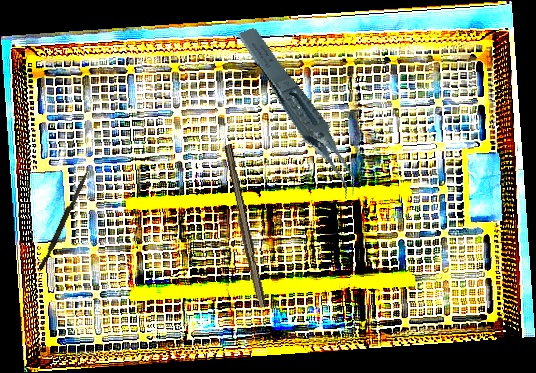Pusher: (38, 165, 91, 272)
Scalpel Handle: (218, 144, 270, 309)
Tissue Forceps: (236, 13, 360, 215)
